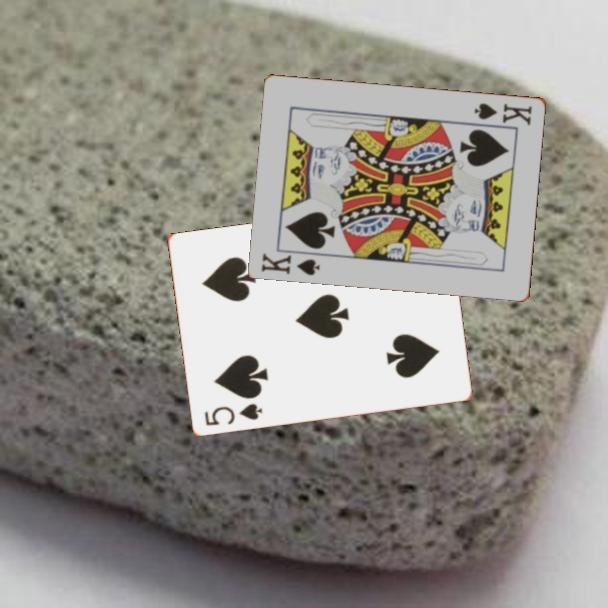s05: (201, 400, 265, 429)
s13: (471, 99, 535, 128), (259, 249, 323, 278)
